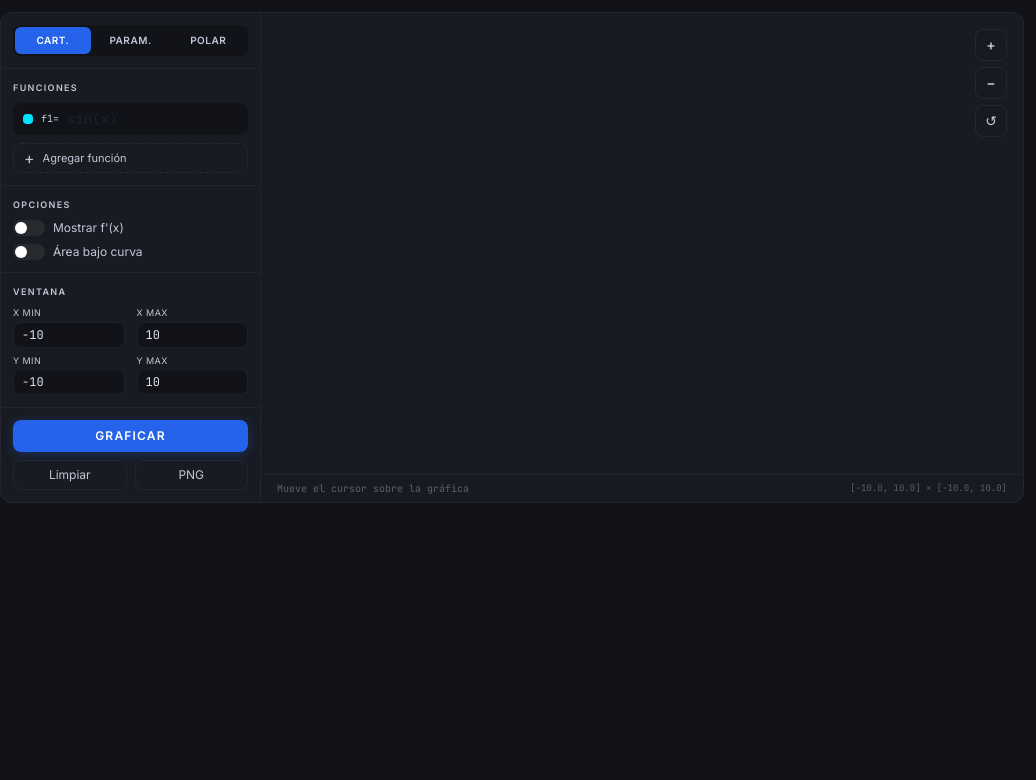
GraphViewer — área bajo la curva › inputs graph-area-a y graph-area-b visibles cuando toggle está activo
The width and height of the screenshot is (1036, 780).
Click the checkbox with test id "graph-area-toggle": (512, 258) [0,12,1024,503]
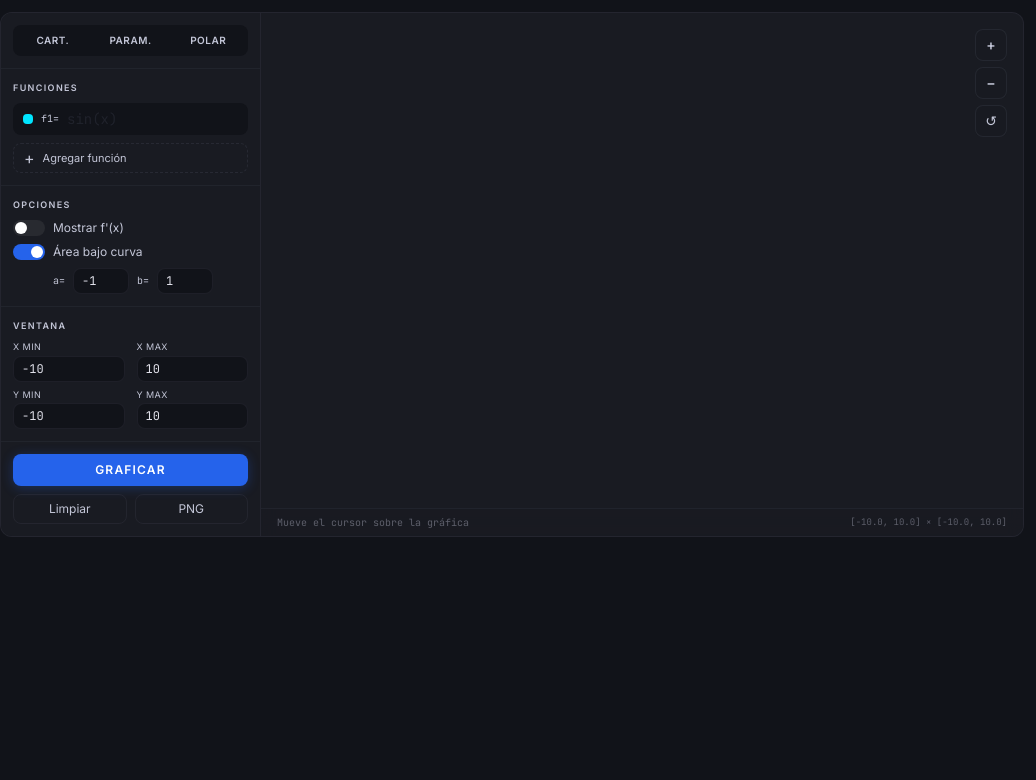
Now the text "a=" is shown, box [53,273,65,288]
Now the text "b=" is shown, box [137,273,149,288]
